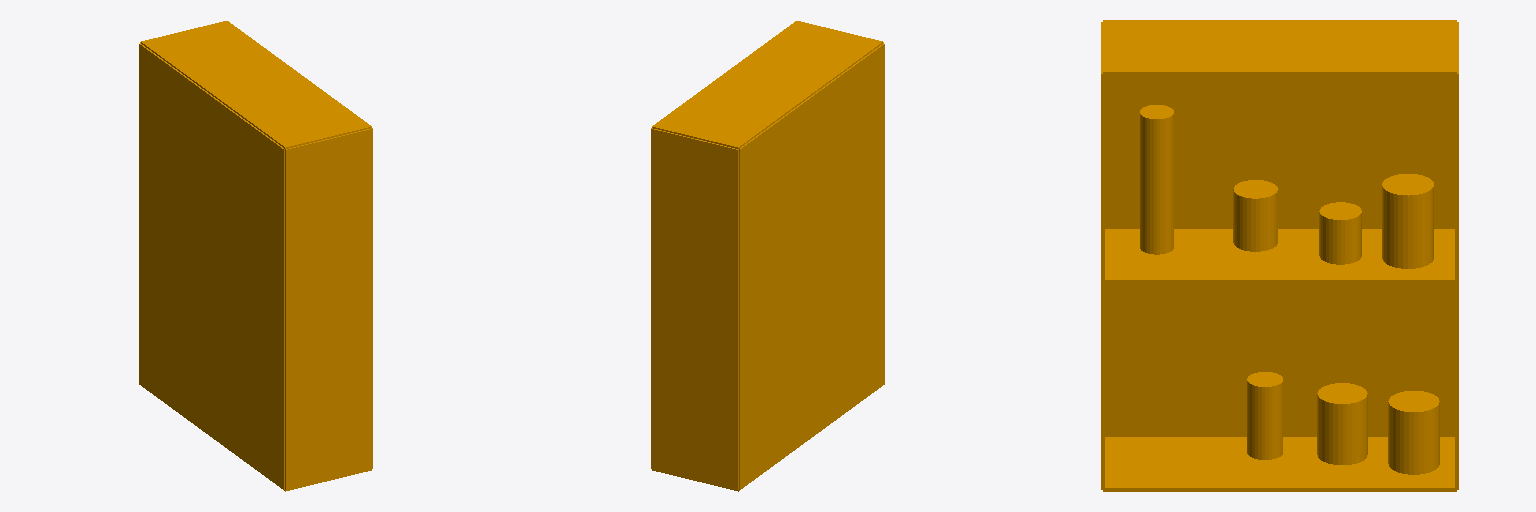
The robot description file, URDF, robot "syn_can_cabinet_2338":
<?xml version="1.0" ?>
<robot name="syn_can_cabinet_2338">
    <link concave="yes" name="base_link">
        <inertial>
            <origin rpy="0 0 0" xyz="0 0 0"/>
            <mass value="0.0"/>
            <inertia ixx="1e-08" ixy="0" ixz="0" iyy="1e-08" iyz="0" izz="1e-08"/>
        </inertial>
        <visual>
            <origin xyz="0 0 0" rpy="0 0 0" />
            <geometry>
                <mesh filename="syn_can_cabinet_2338.obj" scale="1.000000 1.000000 1.000000"/>
            </geometry>         
        </visual>

        <collision concave="yes">
            <origin xyz="0 0 0" rpy="0 0 0"/>
            <geometry>
                <mesh filename="syn_can_cabinet_2338.obj" scale="1.000000 1.000000 1.000000"/>
            </geometry>
        </collision>
    </link>
</robot>
    

--- Render facts (derived) ---
3 views of the same robot in one strip: view 1: azimuth 30°, elevation 25°; view 2: azimuth 150°, elevation 25°; view 3: azimuth 270°, elevation 25° (orthographic).
Robot: syn_can_cabinet_2338 — 1 links, 0 joints (none); root link base_link; default pose: all joints at 0.
Visible links, largest first — view 1: base_link; view 2: base_link; view 3: base_link.
Boxes of the visible links, left/top/right/bottom form: base_link: left=139, top=21, right=372, bottom=491; base_link: left=651, top=21, right=884, bottom=491; base_link: left=1101, top=20, right=1458, bottom=491.
Bounding box of the posed robot: 0.1524 × 0.4383 × 0.5679 m (x, y, z).
1 mesh visuals loaded from 1 distinct referenced files (1 OBJ).
